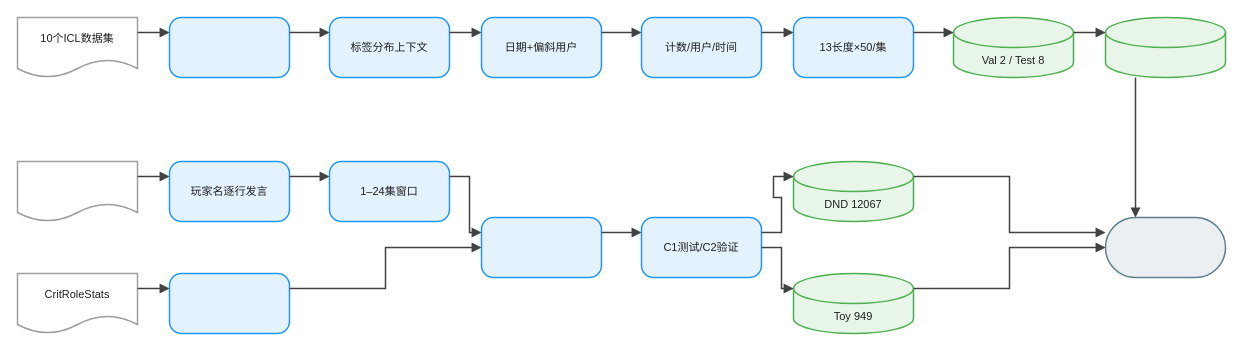
This 1244x352 diagram has some shape labels left out. Here are the shapes that lost their labels. From the top down, the box of each, then its label:
(168, 16, 290, 78): 双模型筛选
(1104, 16, 1226, 78): Synth 6500
(16, 160, 138, 222): CRD3 C1/C2
(480, 216, 602, 278): 问题+统计真值
(1104, 216, 1226, 278): HF固定发布
(168, 272, 290, 334): rolls/spells整理
